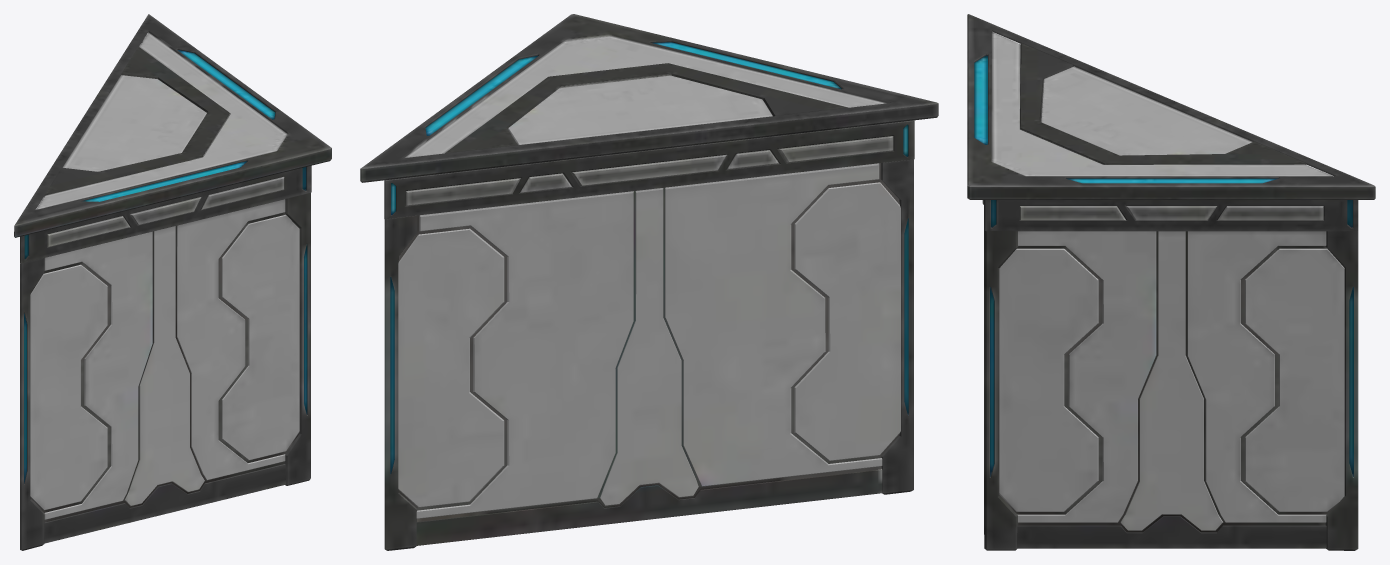
The model's file is SM_FloorTryangle_Ancient_7dc5f1.glb.
3 views of the same model, side by side, from view 1: azimuth 30°, elevation 25°; view 2: azimuth 150°, elevation 25°; view 3: azimuth 270°, elevation 25° (orthographic). The views are drawn at different scales.
Bounding box in the file's own units: 4 × 4.03 × 4.
1 material, 1 textured.
